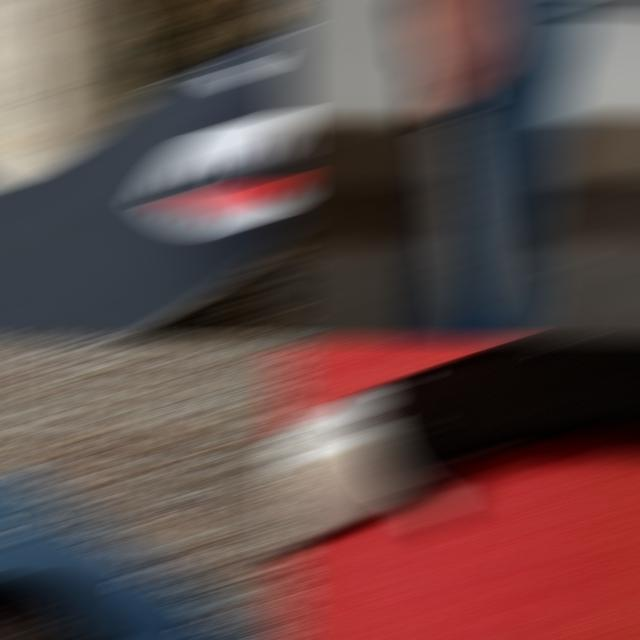Knife: (426, 98, 500, 330)
Knife_Handle: (421, 4, 528, 330)
